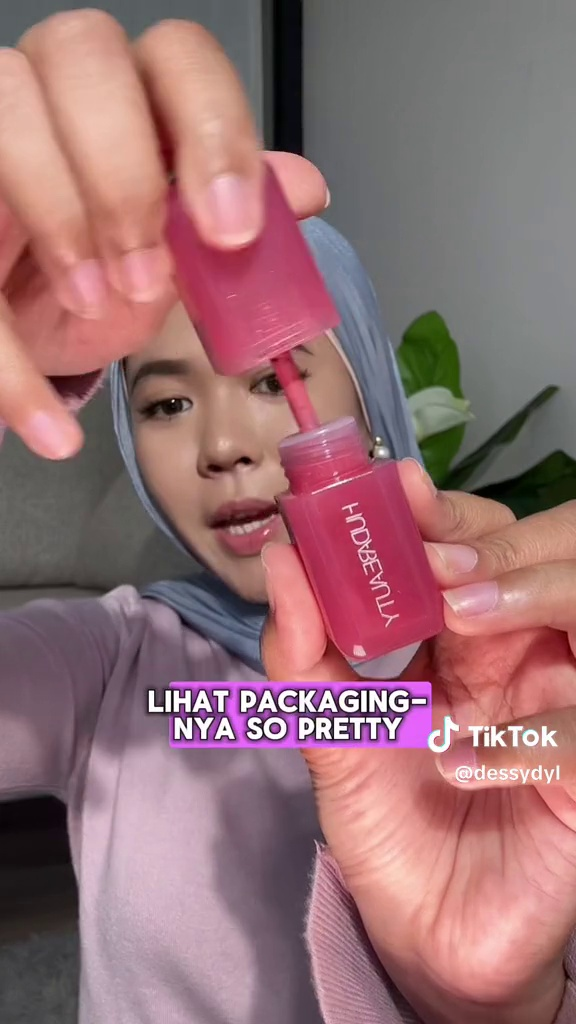train' :'yolo_data/train/images',: (157, 159, 349, 430), (255, 406, 454, 667)
